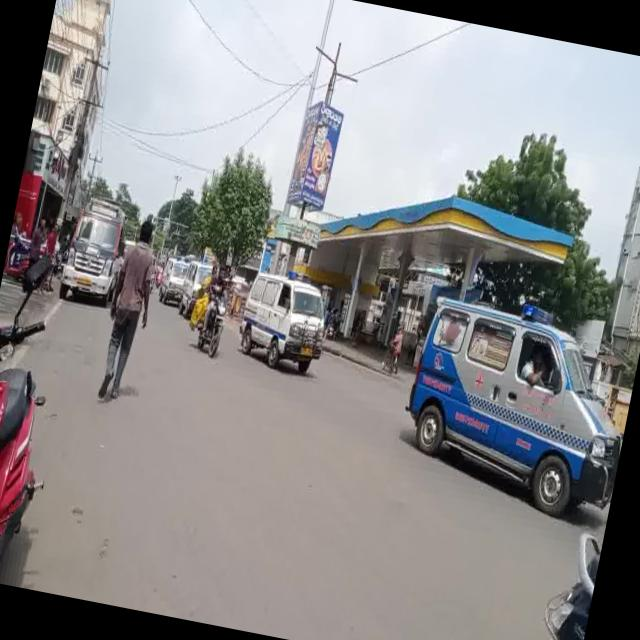ambulance: (398, 268, 617, 535), (225, 252, 348, 404), (46, 188, 140, 315)
